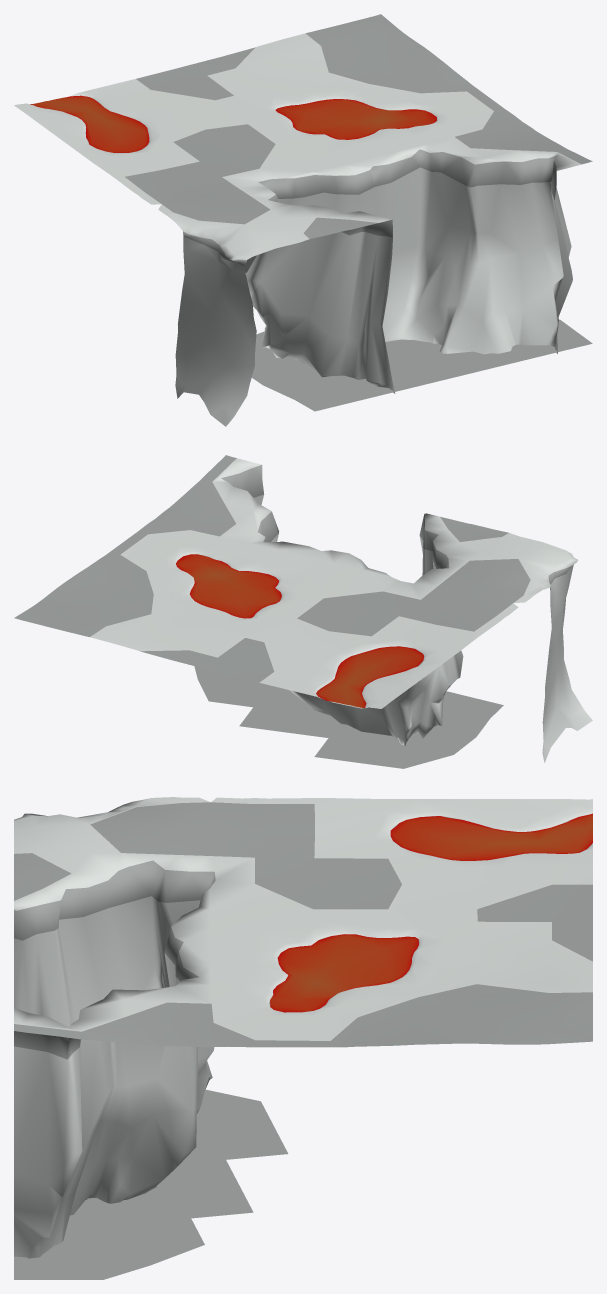
3 renders of one model, top to bottom at view 1: azimuth 30°, elevation 25°; view 2: azimuth 150°, elevation 25°; view 3: azimuth 270°, elevation 25°, orthographic. The views are drawn at different scales.
Parts seen in each view (by area): view 1: G:\FFXIV-MapTools\exports\r2f1\bg\ex1\01_roc_r2\fld\r2f1\bgp (×6); view 2: G:\FFXIV-MapTools\exports\r2f1\bg\ex1\01_roc_r2\fld\r2f1\bgp (×6); view 3: G:\FFXIV-MapTools\exports\r2f1\bg\ex1\01_roc_r2\fld\r2f1\bgp (×6).
Boxes of the visible parts, x1,y1,x2,y2 form: G:\FFXIV-MapTools\exports\r2f1\bg\ex1\01_roc_r2\fld\r2f1\bgp (×6): [14, 14, 592, 426]; G:\FFXIV-MapTools\exports\r2f1\bg\ex1\01_roc_r2\fld\r2f1\bgp (×6): [14, 455, 592, 768]; G:\FFXIV-MapTools\exports\r2f1\bg\ex1\01_roc_r2\fld\r2f1\bgp (×6): [14, 797, 592, 1279].
Size of the model in its own units: 128 by 61.5 by 128.
